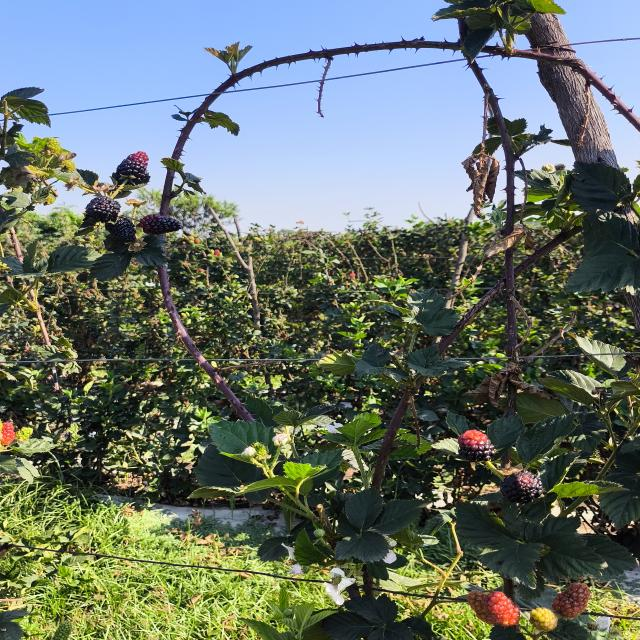maduro: (138, 214, 182, 235), (86, 197, 120, 223), (105, 216, 136, 242)
marron: (501, 470, 543, 504), (111, 152, 150, 188), (458, 430, 495, 462)
naranja: (552, 583, 590, 618), (485, 591, 520, 626), (467, 591, 495, 625)
verde: (530, 607, 558, 632)
